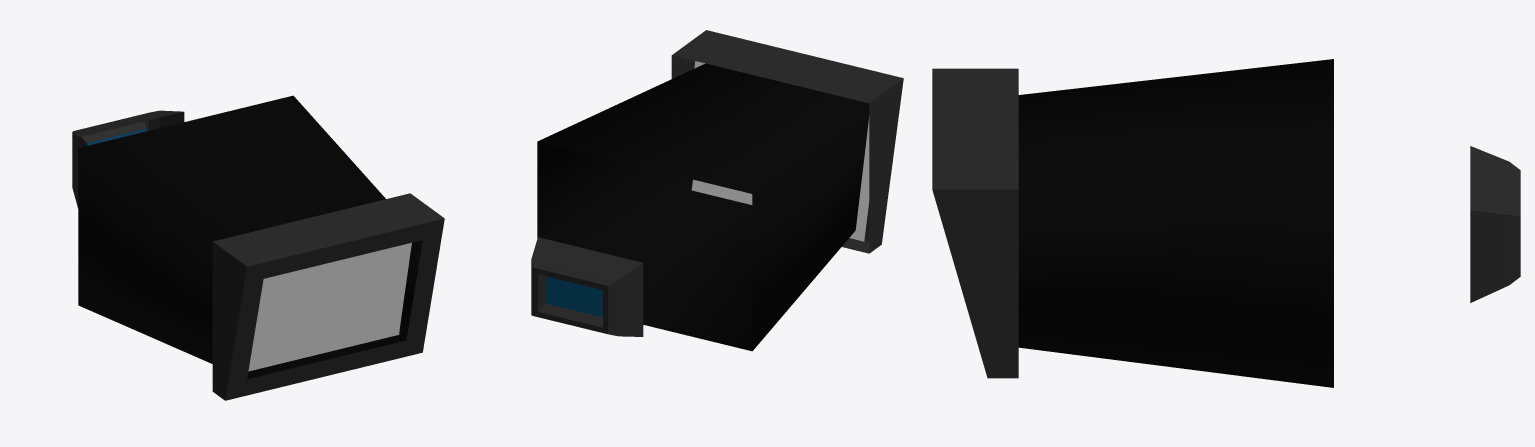
File: TankSight_SQ_OneAndHalf.fbx
3 views of the same model, side by side, from view 1: azimuth 30°, elevation 25°; view 2: azimuth 150°, elevation 25°; view 3: azimuth 270°, elevation 25° (orthographic). The views are drawn at different scales.
Visible parts, largest first — view 1: Cube.003, Cube.001; view 2: Cube.003, Cube.001; view 3: Cube.003.
Boxes of the visible parts, box(x1,y1,x2,y2) form: Cube.003: box(72, 95, 444, 400); Cube.001: box(248, 242, 411, 371); Cube.003: box(531, 30, 903, 351); Cube.001: box(691, 61, 869, 241); Cube.003: box(932, 59, 1520, 387).
Bounding box in the file's own units: 1 × 1 × 1.87.
